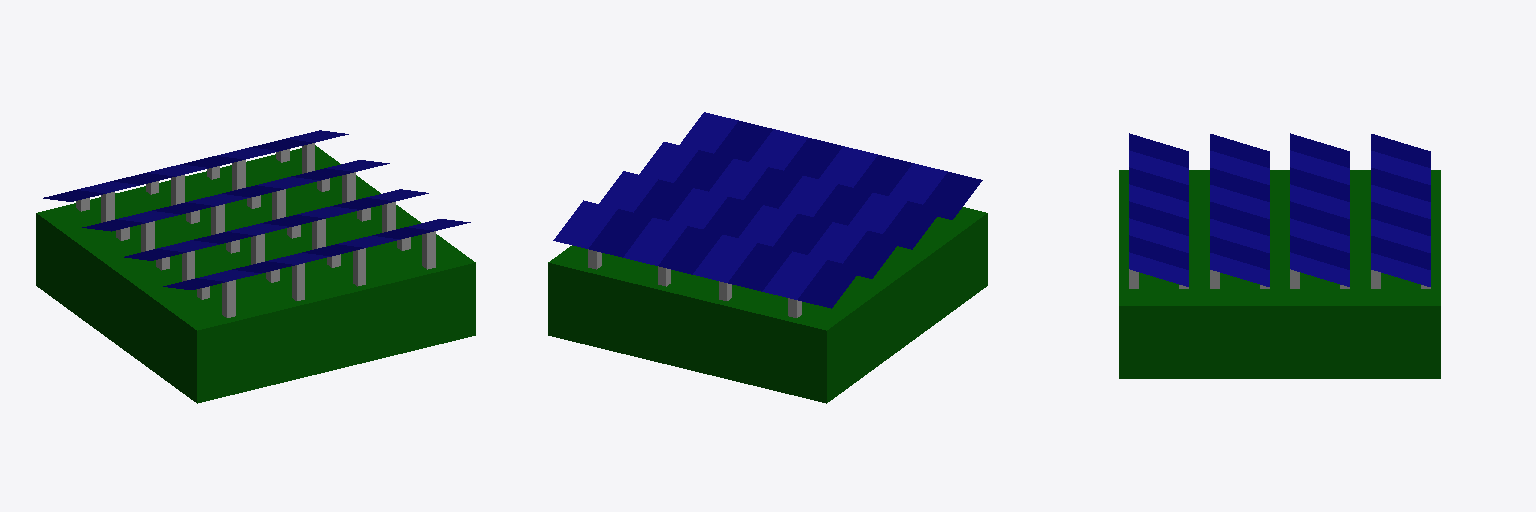
3 views of the same model, side by side, from view 1: azimuth 30°, elevation 25°; view 2: azimuth 150°, elevation 25°; view 3: azimuth 270°, elevation 25° (orthographic).
Visible parts, largest first — view 1: grass, plane, bar; view 2: plane, grass, bar; view 3: grass, plane, bar.
Boxes of the visible parts, x1=… form: grass: x1=36, y1=145, x2=475, y2=403; plane: x1=43, y1=130, x2=470, y2=289; bar: x1=76, y1=143, x2=435, y2=317; plane: x1=553, y1=112, x2=982, y2=308; grass: x1=548, y1=207, x2=987, y2=403; bar: x1=588, y1=249, x2=801, y2=317; grass: x1=1119, y1=170, x2=1440, y2=378; plane: x1=1129, y1=133, x2=1430, y2=286; bar: x1=1129, y1=269, x2=1430, y2=288.
Bounding box in the file's own units: 0.25 × 0.0938 × 0.25.
Materials: 1 (1 with a texture image).